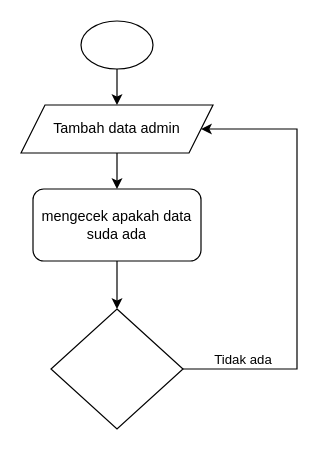
Image size: 328x450. Some labels were removed from this diagram. Each missing label, with the box of its shape:
Star: (80, 20, 153, 69)
Suda ada?: (50, 308, 183, 429)
